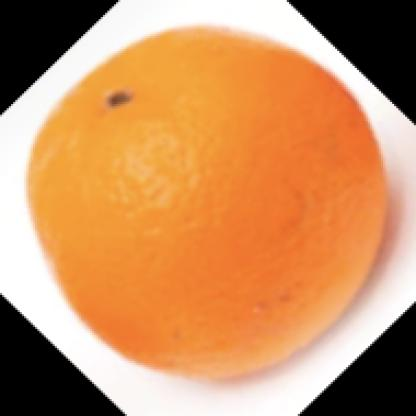fresh: (29, 25, 389, 379)
